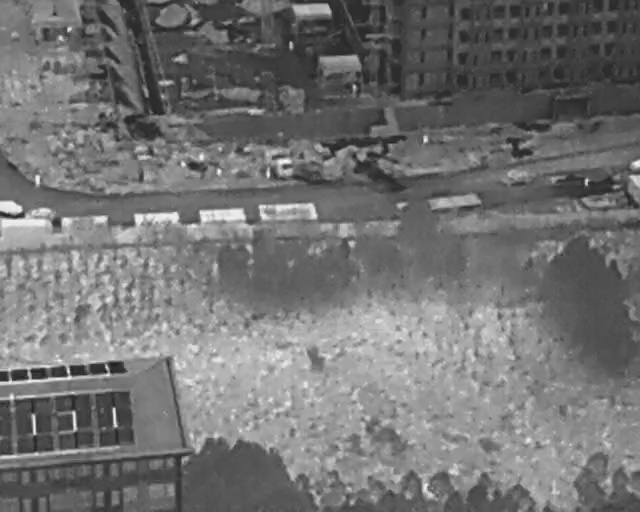Person: (33, 172, 40, 189), (288, 39, 296, 52), (421, 132, 428, 146), (352, 82, 358, 97), (266, 165, 272, 179), (198, 150, 205, 160)
